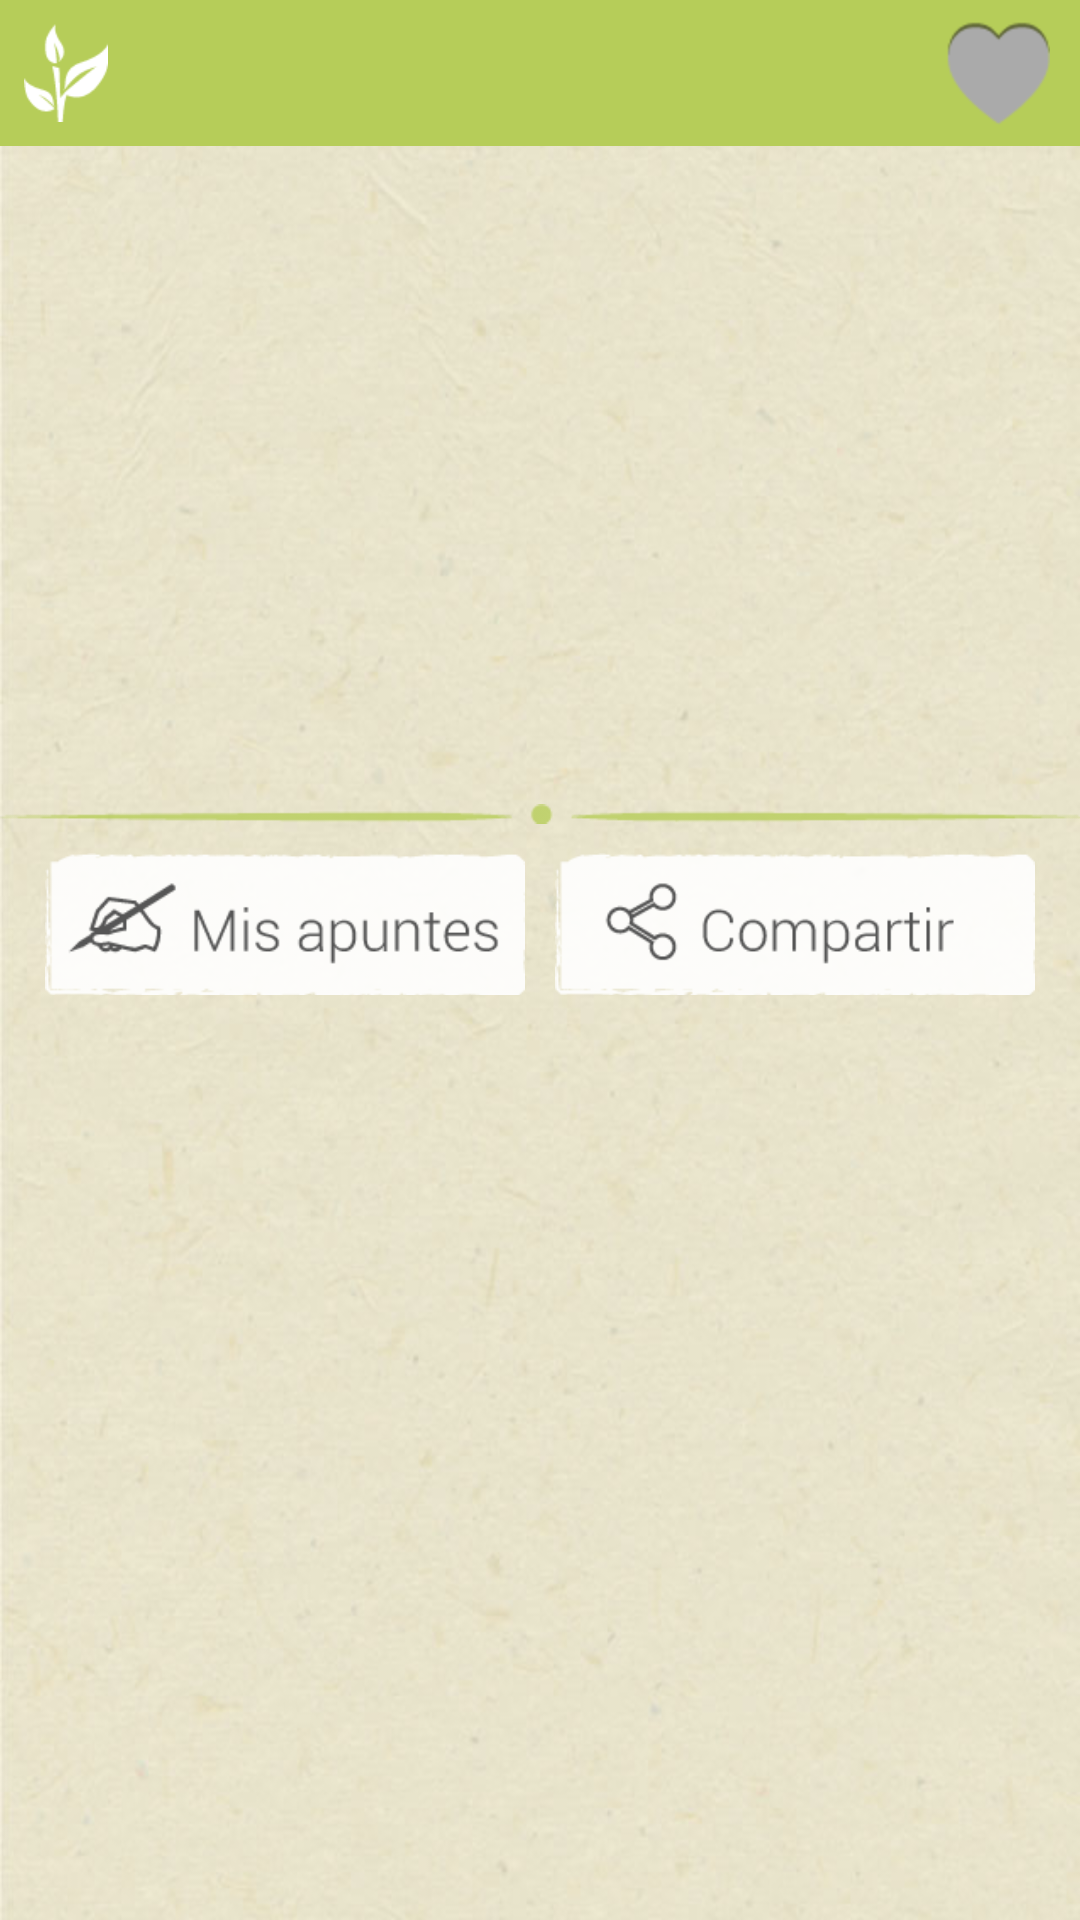

Screen size 1080px x 1920px. Icon name, then its center in pixels as [x,y]:
checkbox favorites: [999,73]
